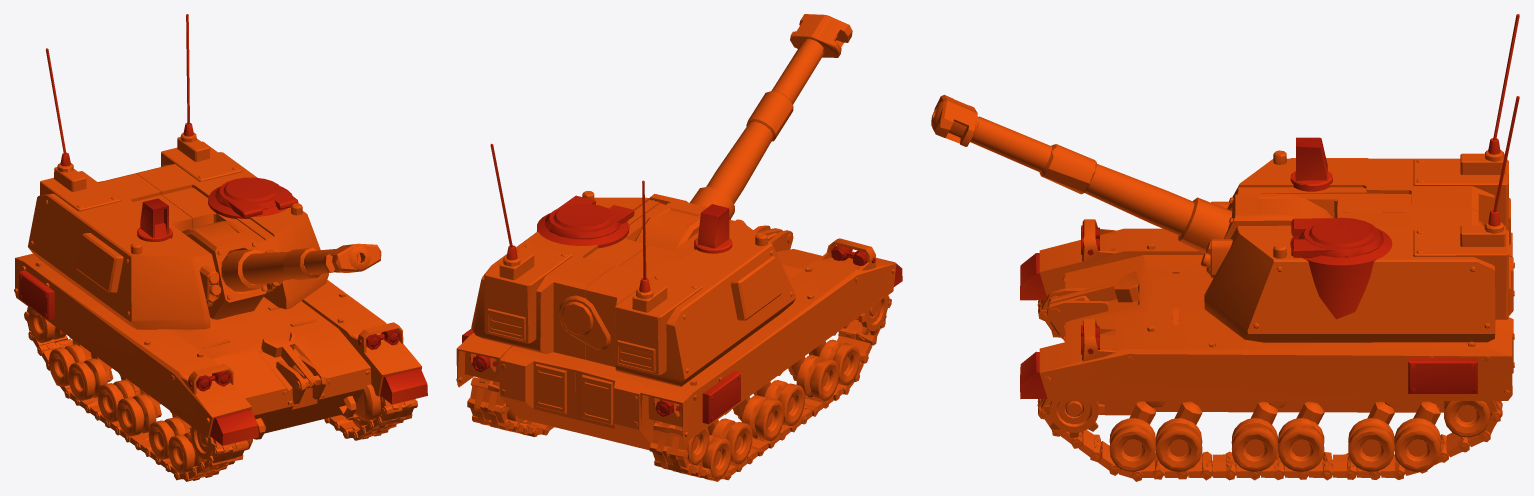
Rendered from WbHowitzerRigged.fbx.
The picture shows the model from 3 angles, left to right: view 1: azimuth 30°, elevation 25°; view 2: azimuth 150°, elevation 25°; view 3: azimuth 270°, elevation 25°; orthographic projection. The views are drawn at different scales.
Visible parts, largest first — view 1: Body, TurretMain, BarrelCannon, Wheel.009, Wheel.007, Wheel.008, Wheel.010, Wheel.006, Wheel.011, WheelFixed.002, WheelFixed.003; view 2: TurretMain, Body, BarrelCannon, Wheel.010, Wheel.008, Wheel.007, Wheel.011, Wheel.009, Wheel.006, WheelFixed.003, WheelFixed.002; view 3: Body, TurretMain, BarrelCannon, Wheel, Wheel.003, Wheel.004, Wheel.001, Wheel.005, Wheel.002, WheelFixed, WheelFixed.001.
Part boxes in pixels (x1,y1,x2,y2): Body: (14,253,427,481); TurretMain: (28,14,328,329); BarrelCannon: (182,221,381,319); Wheel.009: (117,394,156,436); Wheel.007: (68,358,107,400); Wheel.008: (97,380,135,422); Wheel.010: (148,417,186,459); Wheel.006: (49,344,86,386); Wheel.011: (168,432,201,473); WheelFixed.002: (28,308,65,342); WheelFixed.003: (189,426,216,463); TurretMain: (471,143,795,386); Body: (456,193,902,481); BarrelCannon: (635,14,852,250); Wheel.010: (796,355,839,400); Wheel.008: (741,395,784,441); Wheel.007: (711,418,752,464); Wheel.011: (819,339,860,385); Wheel.009: (764,380,804,425); Wheel.006: (695,435,731,479); WheelFixed.003: (844,296,889,335); WheelFixed.002: (674,425,709,464); Body: (1020,219,1514,481); TurretMain: (1201,14,1519,342); BarrelCannon: (931,94,1332,278); Wheel: (1109,418,1155,471); Wheel.003: (1278,418,1324,471); Wheel.004: (1348,418,1394,471); Wheel.001: (1155,418,1202,471); Wheel.005: (1394,418,1440,471); Wheel.002: (1231,418,1277,471); WheelFixed: (1043,401,1104,437); WheelFixed.001: (1444,401,1490,437).
Bounding box in the file's own units: 0.6051 × 0.7677 × 1.11.
